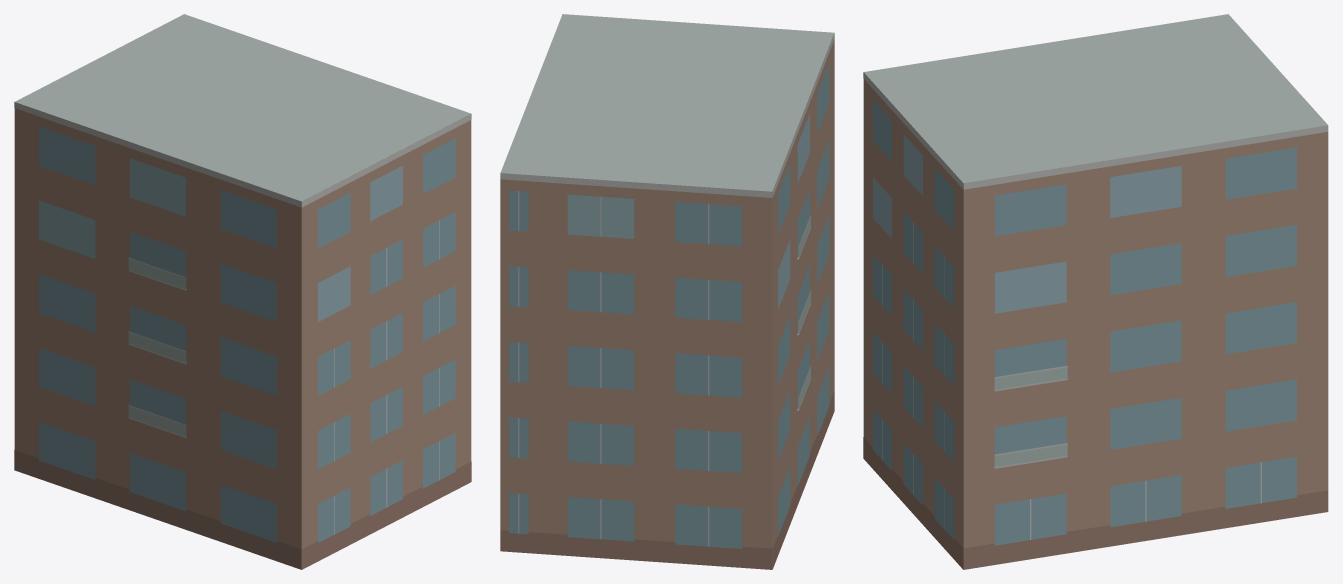
File: survey-upis-32795518.glb
The picture shows the model from 3 angles, left to right: view 1: azimuth 30°, elevation 25°; view 2: azimuth 150°, elevation 25°; view 3: azimuth 270°, elevation 25°; orthographic projection. The views are drawn at different scales.
Visible parts, largest first — view 1: survey-upis-32795518.tmp; view 2: survey-upis-32795518.tmp; view 3: survey-upis-32795518.tmp.
Part boxes in pixels (x1,y1,x2,y2): survey-upis-32795518.tmp: (14,14,471,569); survey-upis-32795518.tmp: (500,14,834,569); survey-upis-32795518.tmp: (863,14,1328,569).
Bounding box in the file's own units: 13.87 × 14.75 × 16.09.
